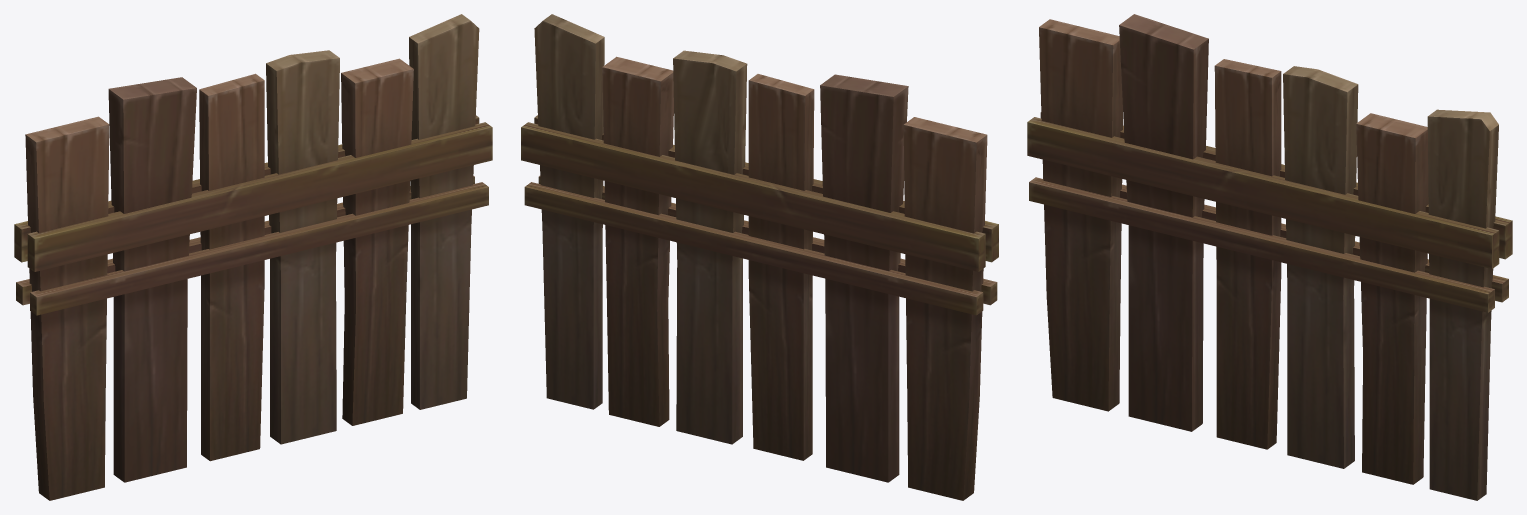
The picture shows the model from 3 angles, left to right: view 1: azimuth 30°, elevation 25°; view 2: azimuth 150°, elevation 25°; view 3: azimuth 330°, elevation 25°; orthographic projection.
Parts seen in each view (by area): view 1: wq_wj011_01; view 2: wq_wj011_01; view 3: wq_wj011_01.
Boxes of the visible parts, <box> form: wq_wj011_01: <box>14,14,492,500</box>; wq_wj011_01: <box>521,14,998,500</box>; wq_wj011_01: <box>1027,14,1512,500</box>.
Bounding box in the file's own units: 207 × 167 × 16.2.
Materials: 1 (1 with a texture image).
